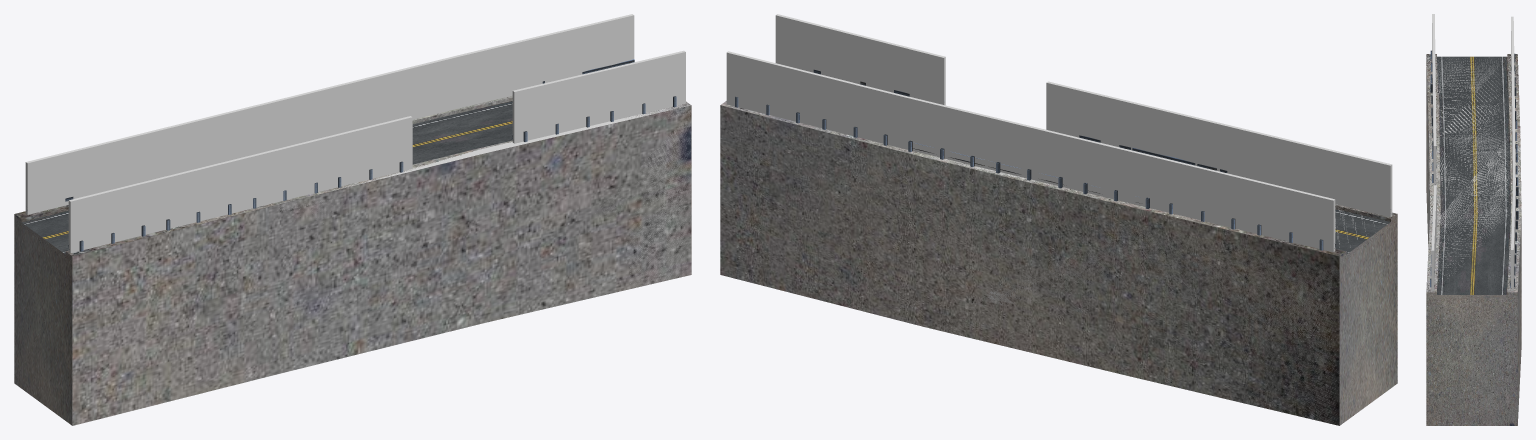
The model's file is straight-long.fbx.
3 renders of one model, left to right at view 1: azimuth 30°, elevation 25°; view 2: azimuth 150°, elevation 25°; view 3: azimuth 270°, elevation 25°, orthographic. The views are drawn at different scales.
Visible parts, largest first — view 1: Plane.015, Plane.036; view 2: Plane.015, Plane.036; view 3: Plane.015, Plane.036.
Part boxes in pixels (box(x1,y1,x2,y2)): Plane.015: box(14, 59, 691, 425); Plane.036: box(25, 14, 689, 284); Plane.015: box(720, 69, 1397, 425); Plane.036: box(726, 14, 1392, 421); Plane.015: box(1426, 50, 1521, 425); Plane.036: box(1426, 14, 1521, 291).
Bounding box in the file's own units: 8009 × 2735 × 1355.
